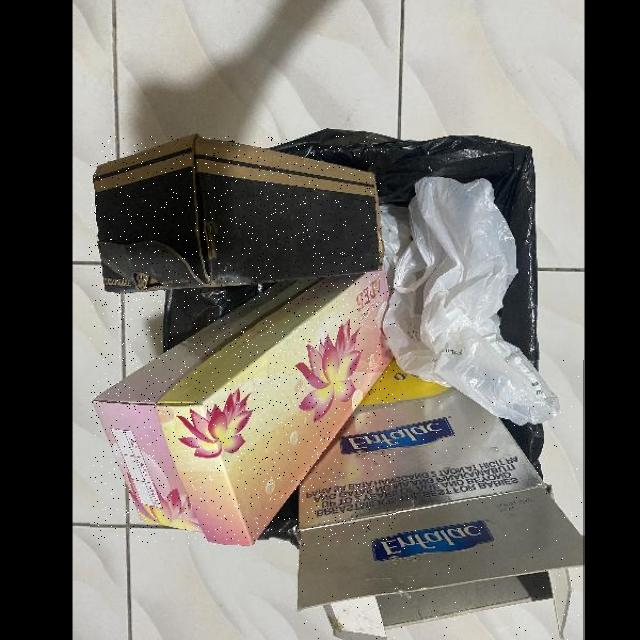paper: (90, 268, 396, 544), (297, 360, 584, 640), (90, 136, 382, 293)
